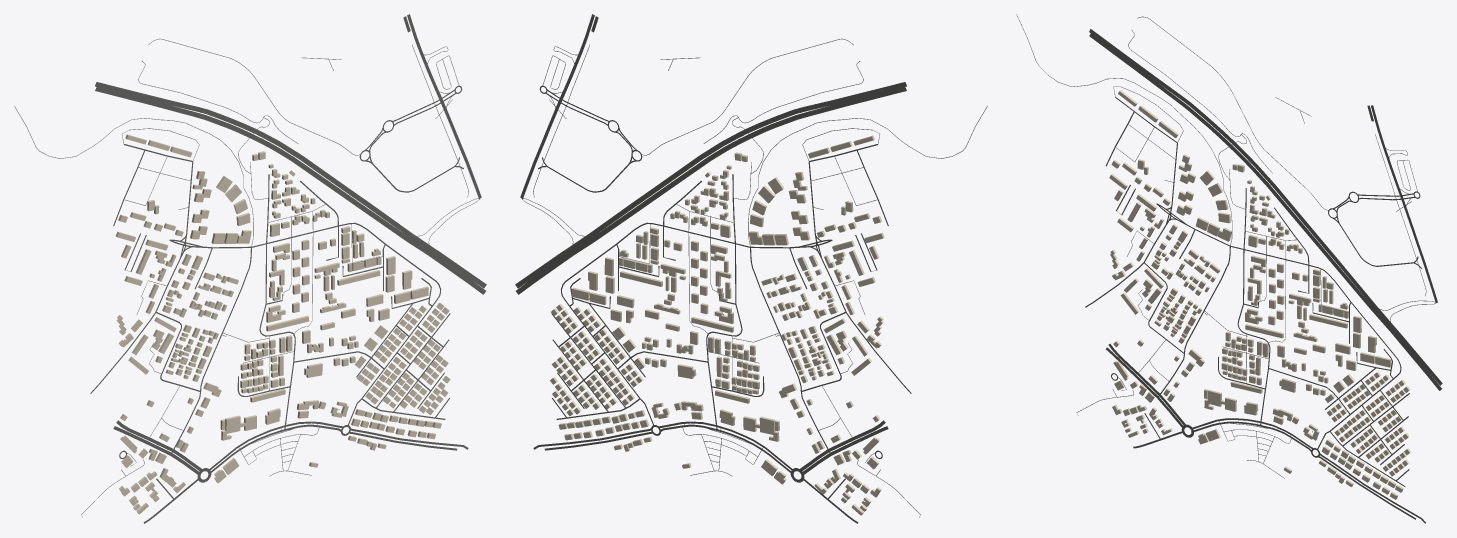
Rendered from historic-palestine-06_22_3477_3161.glb.
3 renders of one model, left to right at view 1: azimuth 30°, elevation 25°; view 2: azimuth 150°, elevation 25°; view 3: azimuth 330°, elevation 25°, orthographic. The views are drawn at different scales.
Parts seen in each view (by area): view 1: Road 35.001, Road 35.003, Road הדרום.002; view 2: Road 35.001, Road 35.003, Road הדרום.002, Building_.176; view 3: Road 35.001, Road 35.003, Road הדרום.002.
Boxes of the visible parts, x1,y1,x2,y2 form: Road 35.001: (95,86,485,294); Road 35.003: (170,101,411,236); Road הדרום.002: (412,29,481,198); Road 35.001: (516,86,906,294); Road 35.003: (590,101,831,236); Road הדרום.002: (520,29,589,198); Building_.176: (743,416,779,441); Road 35.001: (1089,33,1441,390); Road 35.003: (1157,79,1374,306); Road הדרום.002: (1375,121,1437,302).
Size of the model in its own units: 1301 by 1278 by 8.7.
